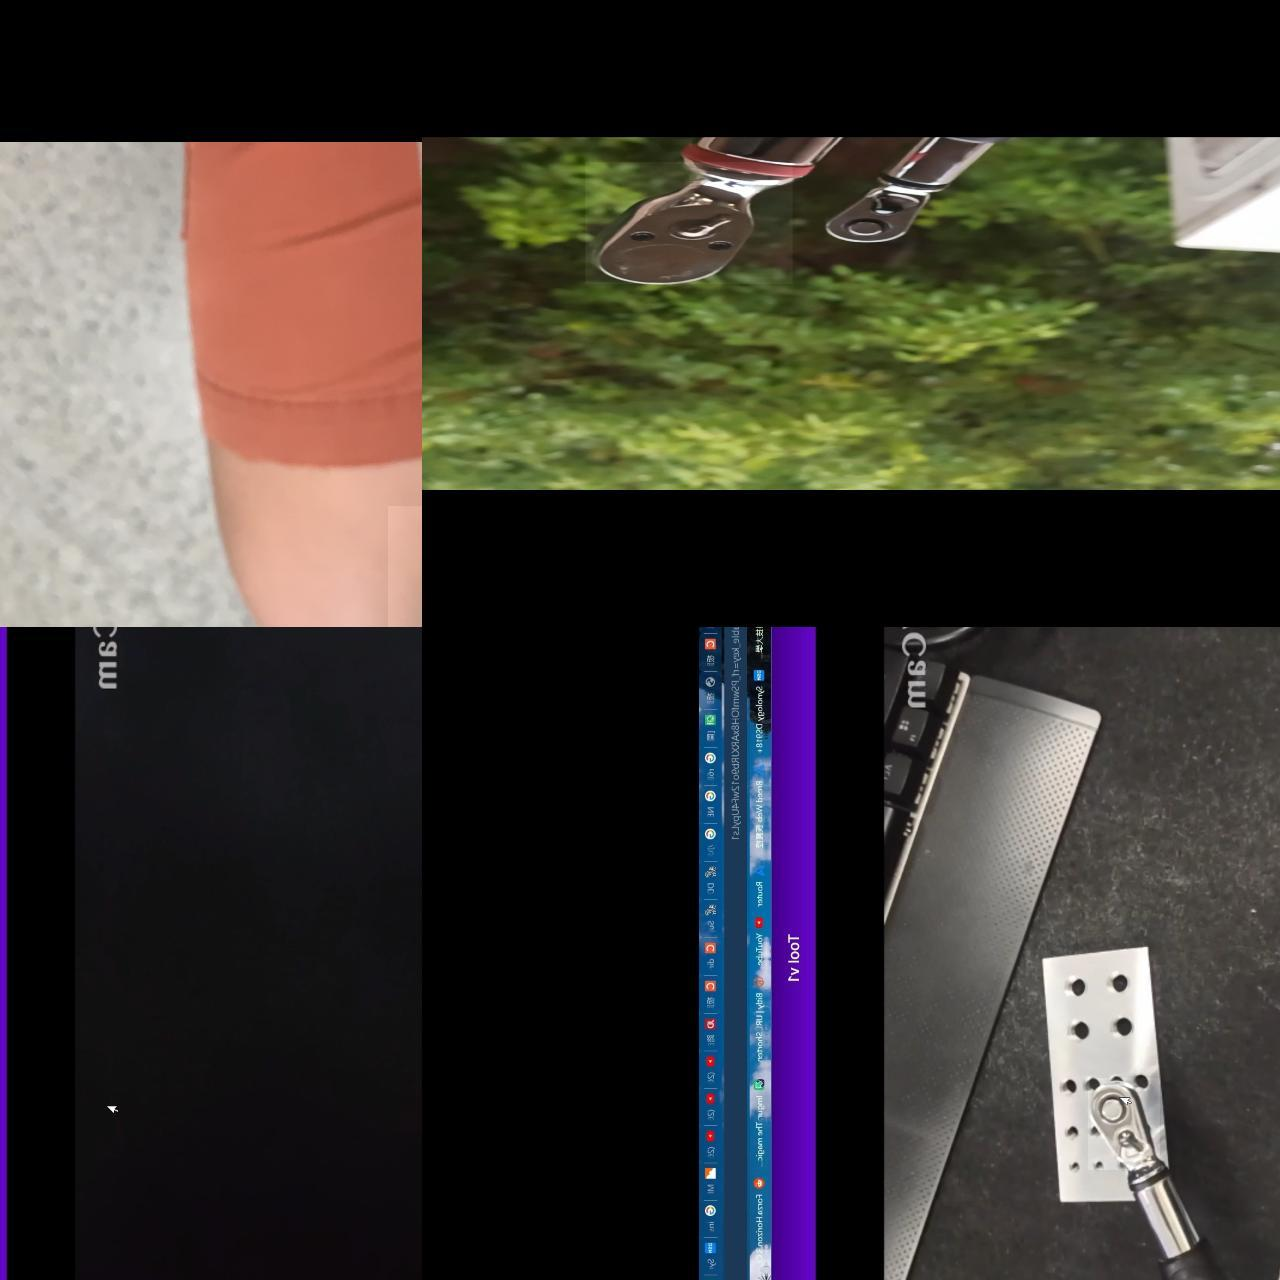Tool: (584, 162, 791, 285), (819, 178, 940, 245), (1087, 1078, 1159, 1170)
hole: (1071, 1019, 1102, 1051), (1107, 967, 1137, 999), (1114, 1016, 1143, 1047), (1067, 972, 1097, 1001), (1088, 1081, 1111, 1104), (1060, 1082, 1083, 1105), (1137, 1077, 1160, 1099), (1110, 1075, 1133, 1096), (1062, 1124, 1082, 1144), (1091, 1158, 1109, 1177), (1067, 1159, 1084, 1177), (1089, 1124, 1104, 1143)
